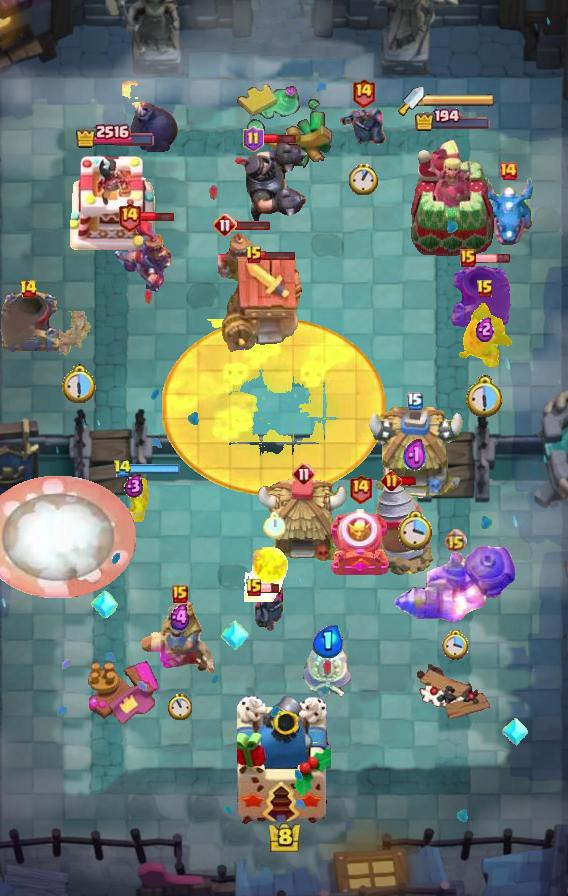baby-dragon: (119, 81, 179, 153)
bar: (409, 138, 497, 256)
battle-ram: (338, 98, 388, 152), (253, 584, 287, 631)
earthquake: (218, 229, 262, 293)
electro-spirit: (313, 626, 343, 658), (403, 438, 427, 474), (167, 604, 192, 631), (476, 314, 494, 341), (124, 474, 144, 498)
elixir: (467, 374, 506, 417), (398, 511, 433, 553), (62, 364, 98, 404), (350, 163, 378, 195), (443, 630, 469, 661), (168, 692, 192, 719), (262, 513, 285, 540)
elixir-collector: (300, 640, 356, 700)
elixir-golem-big: (112, 218, 178, 298)
emote: (129, 464, 180, 474), (140, 209, 176, 222), (263, 132, 298, 145), (235, 219, 271, 231), (473, 252, 510, 263), (261, 250, 296, 261), (398, 475, 418, 487), (260, 582, 280, 594)
fisherman: (59, 312, 101, 357)
goblin-barrel: (456, 302, 514, 372)
goblin-cage: (328, 509, 392, 579)
graveyard: (481, 175, 535, 249)
king-tower: (237, 696, 331, 826)
king-tower-bar: (424, 93, 496, 107)
magic-archer: (374, 482, 434, 576)
musketeer: (449, 263, 511, 331), (0, 288, 62, 356)
pad_2: (91, 587, 119, 621), (221, 618, 249, 652), (501, 716, 529, 748)
phoenix-egg: (161, 319, 386, 497)
prince: (364, 407, 466, 503), (257, 477, 351, 567)
queen-tower: (68, 150, 160, 256)
ram-rider: (139, 592, 221, 678)
royal-guardian: (229, 142, 311, 226)
selected: (73, 123, 154, 150), (414, 108, 492, 132)
sparky: (222, 256, 308, 354)
text: (351, 77, 376, 108), (117, 200, 142, 231), (348, 473, 373, 504), (213, 213, 237, 237), (292, 462, 316, 486), (243, 126, 264, 152), (445, 529, 468, 552), (382, 469, 403, 490), (498, 161, 518, 181), (19, 279, 38, 299), (113, 458, 132, 477), (245, 245, 263, 265), (476, 279, 494, 299), (245, 578, 263, 598), (460, 249, 476, 267), (407, 392, 423, 410), (172, 585, 188, 603)
valkyrie: (244, 546, 292, 602)
wall-breaker: (0, 476, 136, 598)
wizard: (393, 545, 517, 623)
zap: (113, 468, 155, 526)
